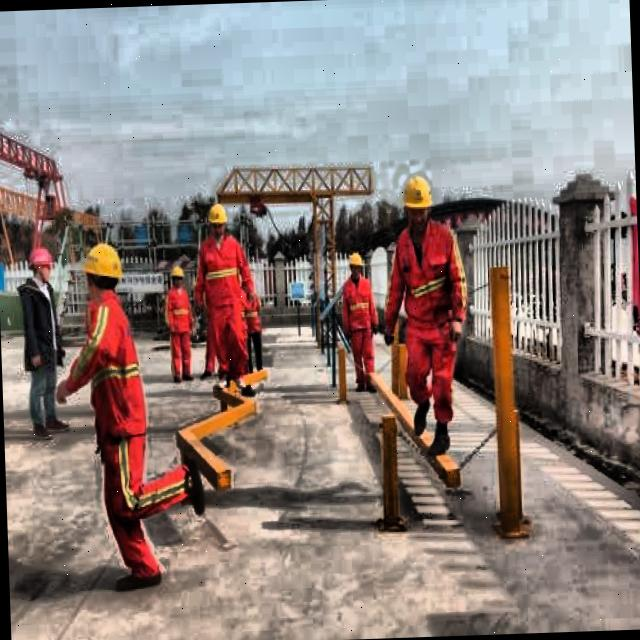helmet: (80, 239, 124, 300), (397, 168, 436, 234), (30, 242, 54, 284), (204, 201, 227, 243), (346, 247, 364, 284), (171, 260, 186, 288)
